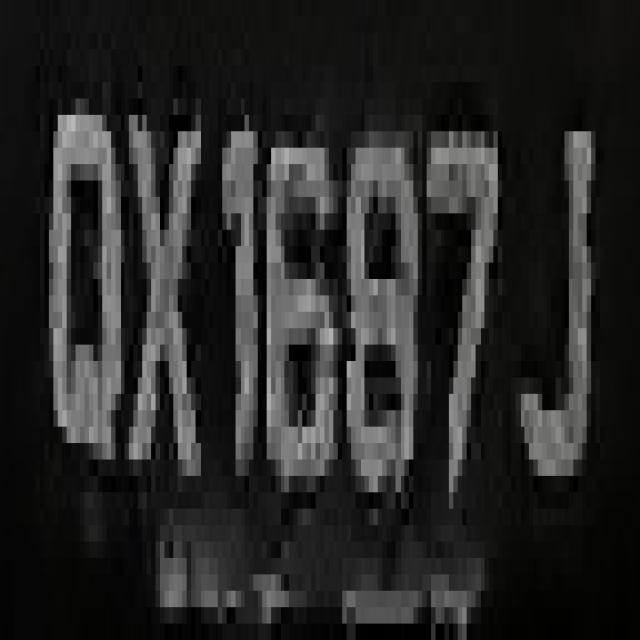1: (222, 49, 271, 591)
6: (258, 82, 338, 509)
7: (409, 66, 511, 542)
8: (325, 99, 431, 525)
J: (507, 66, 609, 525)
Q: (40, 49, 129, 509)
X: (120, 33, 209, 574)
